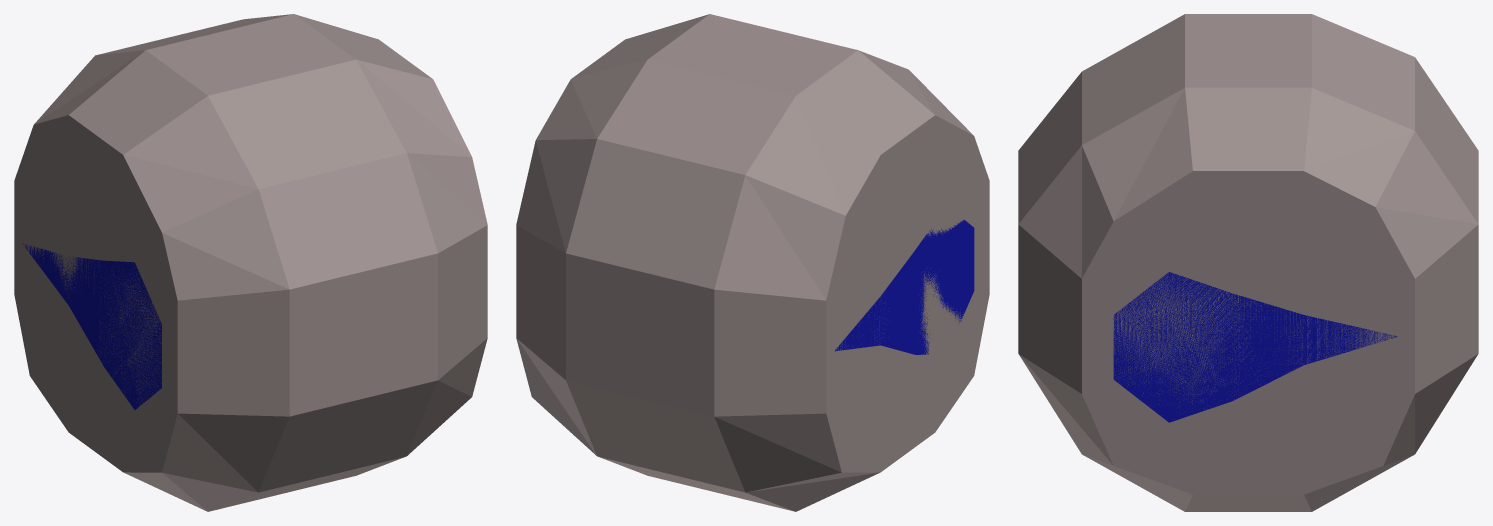
3 renders of one model, left to right at view 1: azimuth 30°, elevation 25°; view 2: azimuth 150°, elevation 25°; view 3: azimuth 270°, elevation 25°, orthographic.
Bounding box in the file's own units: 0.3594 × 0.4609 × 0.4531.
